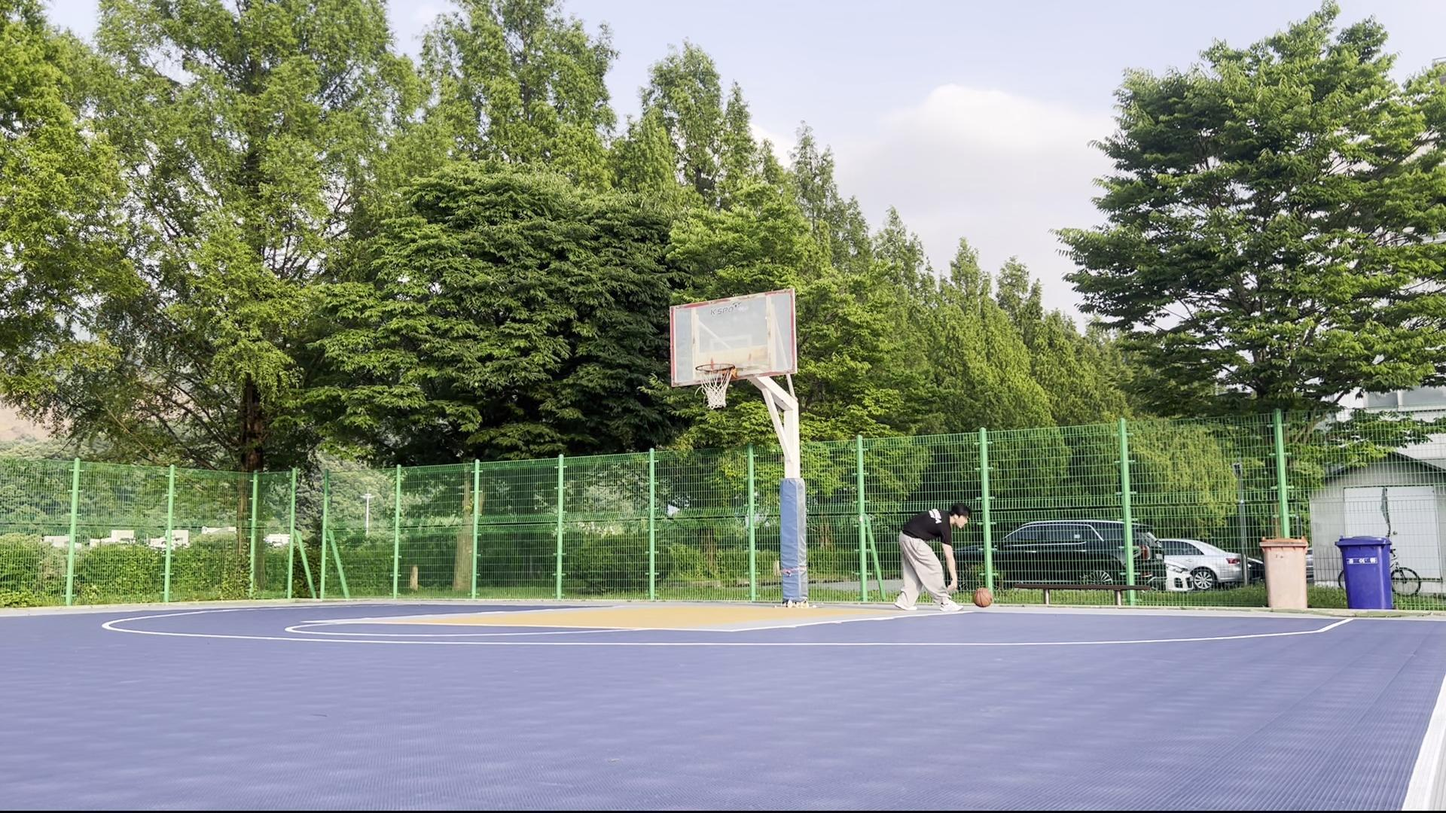ball: (972, 587, 993, 608)
human: (891, 501, 972, 612)
rim: (694, 362, 736, 410)
